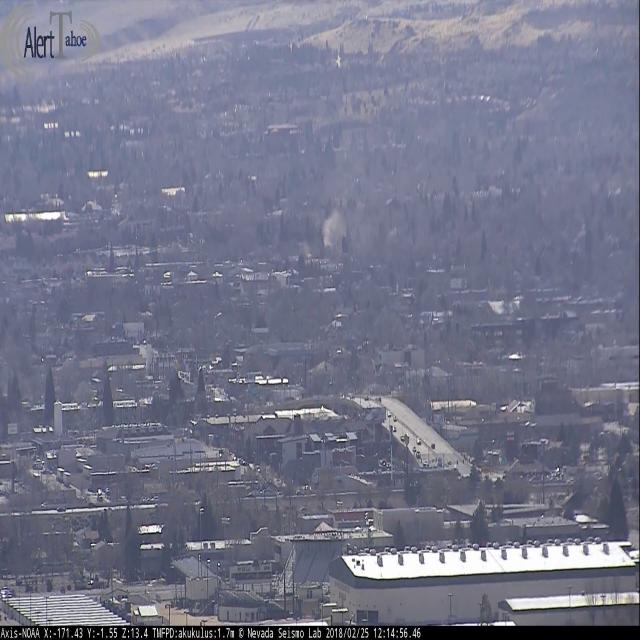smoke: (321, 193, 348, 250)
